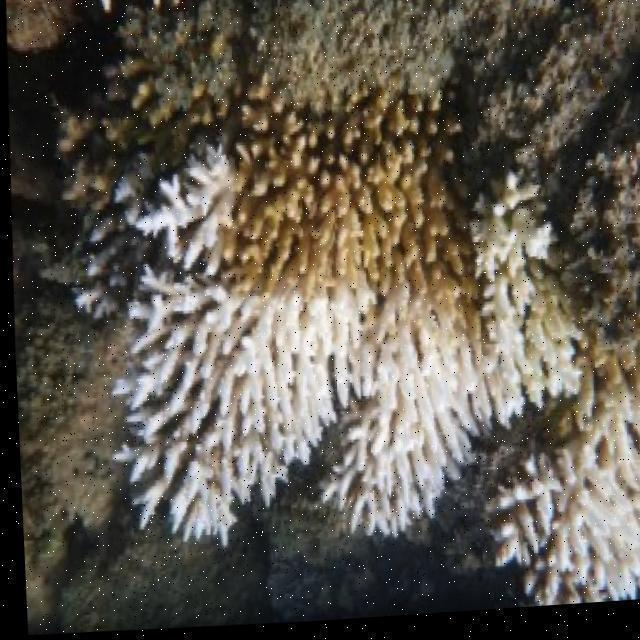Bleached Coral: (116, 285, 492, 610), (432, 173, 640, 618), (54, 121, 221, 357)
